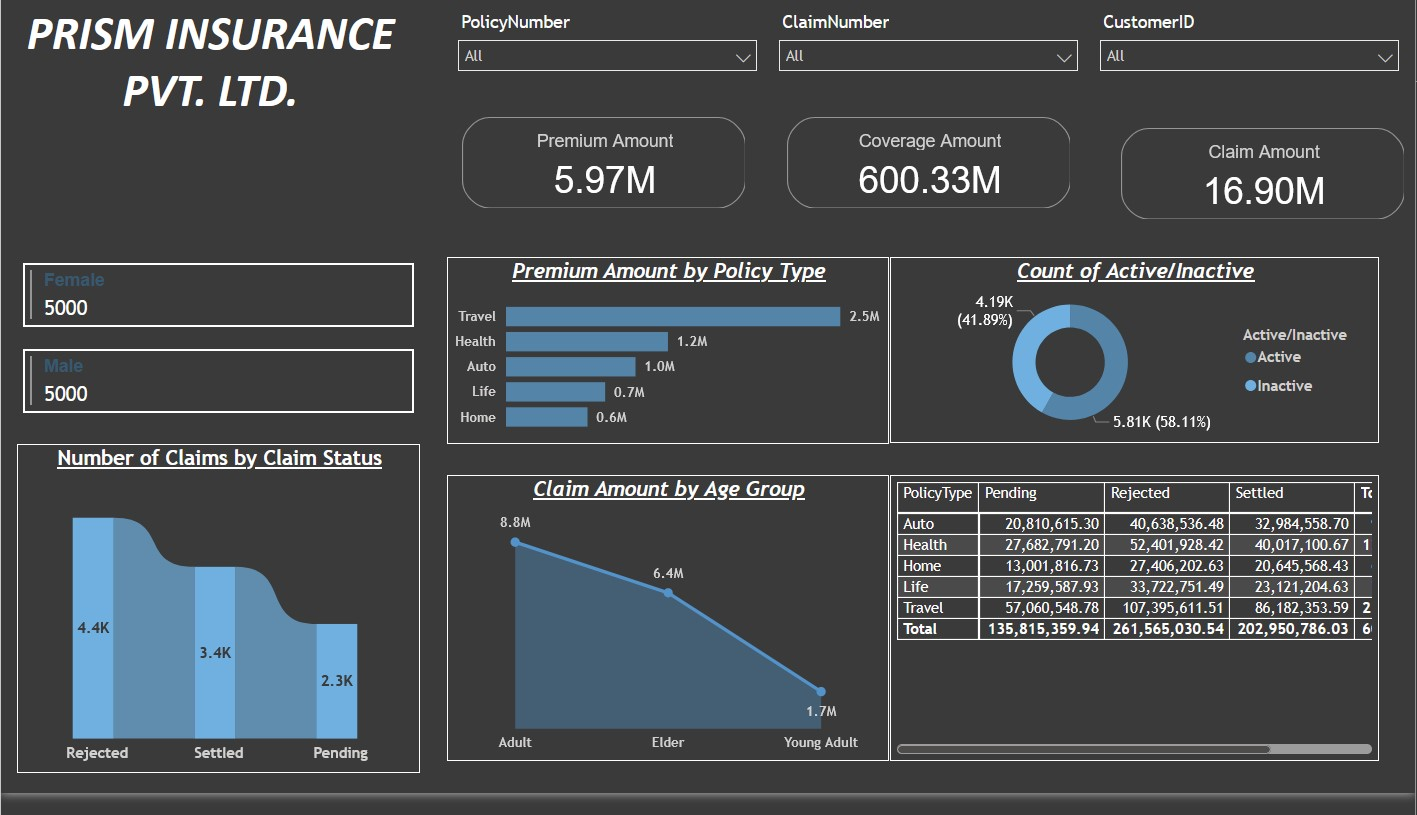

The dashboard page shown, as its layout file describes it:
{"tool":"powerbi","page":{"name":"Page 1","canvas":[1280,720],"ordinal":0},"visuals":[{"type":"slicer","fields":{"Values":["InsuranceData.PolicyNumber"]},"box":[403.6,6.8,290.8,63.2],"z":0},{"type":"slicer","fields":{"Values":["InsuranceData.ClaimNumber"]},"box":[694.5,6.8,290.8,63.2],"z":1000},{"type":"slicer","fields":{"Values":["InsuranceData.CustomerID"]},"box":[985.3,6.8,290.8,63.2],"z":2000},{"type":"textbox","box":[0,0,379.3,141],"z":3000},{"type":"cardVisual","fields":{"Data":["Sum(InsuranceData.PremiumAmount)"]},"box":[411.4,102.1,267.5,93.4],"z":4000},{"type":"cardVisual","fields":{"Data":["Sum(InsuranceData.CoverageAmount)"]},"box":[706.1,102.1,267.5,93.4],"z":5000},{"type":"cardVisual","fields":{"Data":["Sum(InsuranceData.ClaimAmount)"]},"box":[1008.6,111.9,267.5,93.4],"z":6000},{"type":"multiRowCard","fields":{"Values":["InsuranceData.Gender","CountNonNull(InsuranceData.Gender)"]},"box":[14.6,234.4,364.7,169.2],"z":7000},{"type":"ribbonChart","title":"Number of Claims by Claim Status","fields":{"Category":["InsuranceData.ClaimStatus"],"Y":["CountNonNull(InsuranceData.ClaimStatus)"]},"box":[14.6,403.6,364.7,297.6],"z":8000},{"type":"barChart","title":"Premium Amount by Policy Type","fields":{"Category":["InsuranceData.PolicyType"],"Y":["Sum(InsuranceData.PremiumAmount)"]},"box":[403.6,234.4,399.8,169.2],"z":9000},{"type":"lineChart","title":"Claim Amount by Age Group","fields":{"Category":["InsuranceData.Age Group"],"Y":["Sum(InsuranceData.ClaimAmount)"]},"box":[403.6,431.9,399.8,258.7],"z":10000},{"type":"donutChart","title":"Count of Active/Inactive","fields":{"Category":["InsuranceData.Active/Inactive"],"Y":["CountNonNull(InsuranceData.Active/Inactive)"]},"box":[804.4,234.4,442.6,168.3],"z":11000},{"type":"pivotTable","fields":{"Values":["Sum(InsuranceData.CoverageAmount)"],"Rows":["InsuranceData.PolicyType"],"Columns":["InsuranceData.ClaimStatus"]},"box":[804.4,431.9,442.6,258.7],"z":12000}]}

Visuals, with their boxes in screenshot pixels (x1, y1, x2, y2), scaled from the page's 1280x720 canvas onto the 1417x815 screenshot:
slicer - InsuranceData.PolicyNumber: (left=447, top=8, right=769, bottom=79)
slicer - InsuranceData.ClaimNumber: (left=769, top=8, right=1091, bottom=79)
slicer - InsuranceData.CustomerID: (left=1091, top=8, right=1413, bottom=79)
textbox: (left=0, top=0, right=420, bottom=160)
cardVisual - Sum(InsuranceData.PremiumAmount): (left=455, top=116, right=752, bottom=221)
cardVisual - Sum(InsuranceData.CoverageAmount): (left=782, top=116, right=1078, bottom=221)
cardVisual - Sum(InsuranceData.ClaimAmount): (left=1117, top=127, right=1413, bottom=232)
multiRowCard - InsuranceData.Gender x CountNonNull(InsuranceData.Gender): (left=16, top=265, right=420, bottom=457)
"Number of Claims by Claim Status" ribbonChart: (left=16, top=457, right=420, bottom=794)
"Premium Amount by Policy Type" barChart: (left=447, top=265, right=889, bottom=457)
"Claim Amount by Age Group" lineChart: (left=447, top=489, right=889, bottom=782)
"Count of Active/Inactive" donutChart: (left=890, top=265, right=1380, bottom=456)
pivotTable - Sum(InsuranceData.CoverageAmount) x InsuranceData.PolicyType: (left=890, top=489, right=1380, bottom=782)
